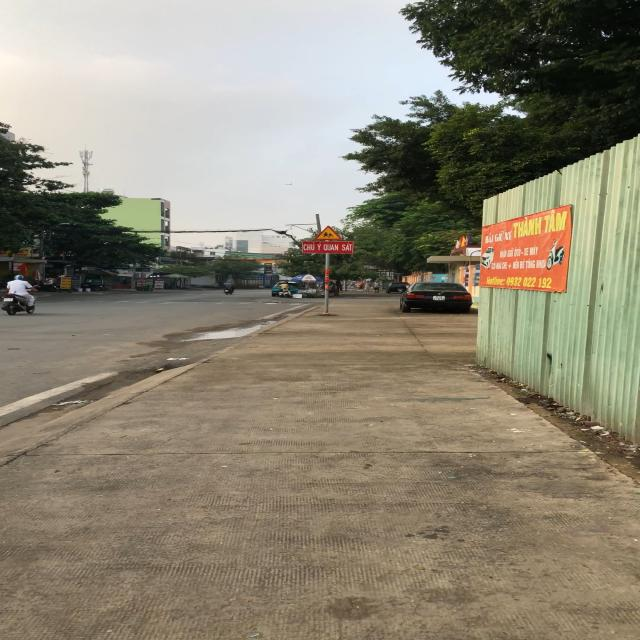Bien bao tre em: (314, 224, 346, 240)
